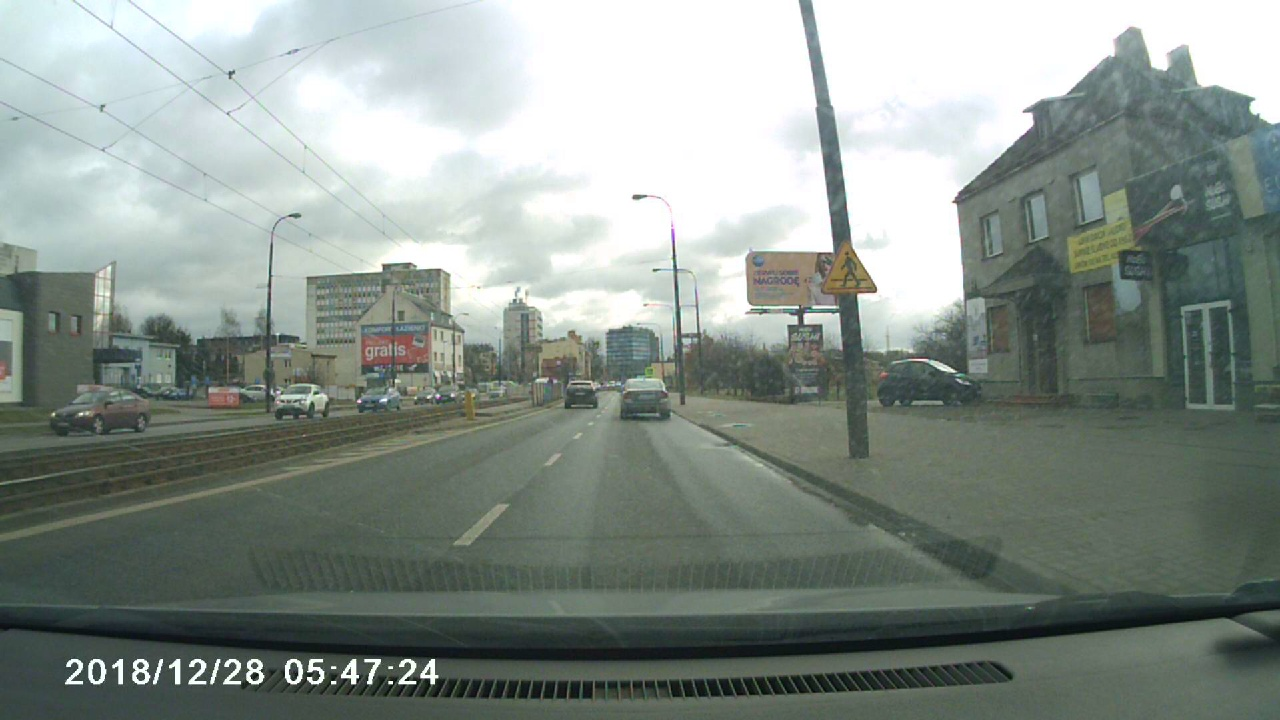A16: (818, 240, 880, 297)
